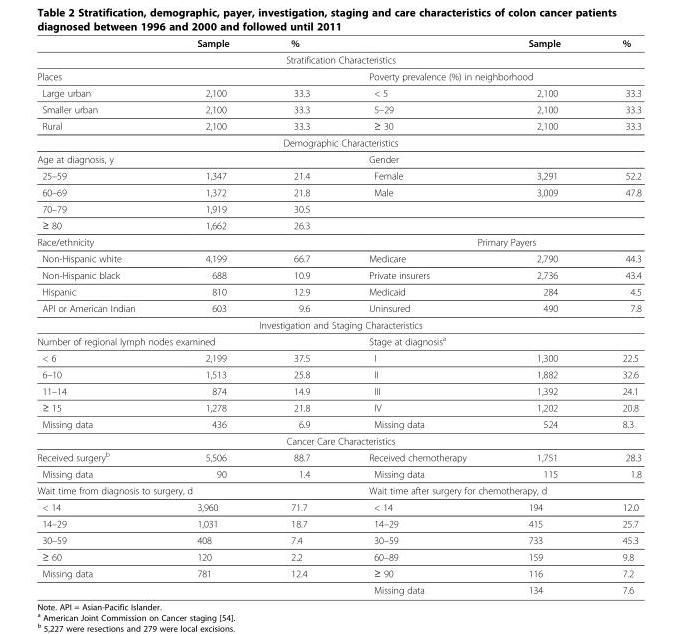table: (36, 37, 640, 595)
table column: (338, 37, 496, 595), (36, 37, 165, 595), (165, 37, 259, 595), (496, 37, 590, 595), (259, 37, 338, 595), (590, 37, 640, 595)
table column header: (36, 37, 640, 51)
table projected row header: (36, 51, 640, 67), (36, 134, 640, 150), (36, 316, 640, 332), (36, 432, 640, 448)
table row: (36, 67, 640, 84), (36, 100, 640, 117), (36, 117, 640, 134), (36, 150, 640, 167), (36, 183, 640, 200), (36, 216, 640, 233), (36, 233, 640, 250), (36, 266, 640, 283), (36, 299, 640, 316), (36, 332, 640, 349), (36, 365, 640, 382), (36, 398, 640, 415), (36, 415, 640, 432), (36, 448, 640, 465), (36, 481, 640, 498), (36, 498, 640, 515), (36, 531, 640, 548), (36, 564, 640, 581), (36, 51, 640, 67), (36, 84, 640, 100), (36, 134, 640, 150), (36, 167, 640, 183), (36, 200, 640, 216), (36, 250, 640, 266), (36, 283, 640, 299), (36, 316, 640, 332), (36, 349, 640, 365), (36, 382, 640, 398), (36, 432, 640, 448), (36, 465, 640, 481), (36, 515, 640, 531), (36, 548, 640, 564), (36, 37, 640, 51), (36, 581, 640, 595)
table spanning cell: (36, 67, 338, 84), (338, 67, 640, 84), (36, 150, 338, 167), (338, 150, 640, 167), (36, 233, 338, 250), (338, 233, 640, 250), (36, 332, 338, 349), (338, 332, 640, 349), (36, 481, 338, 498), (338, 481, 640, 498)
